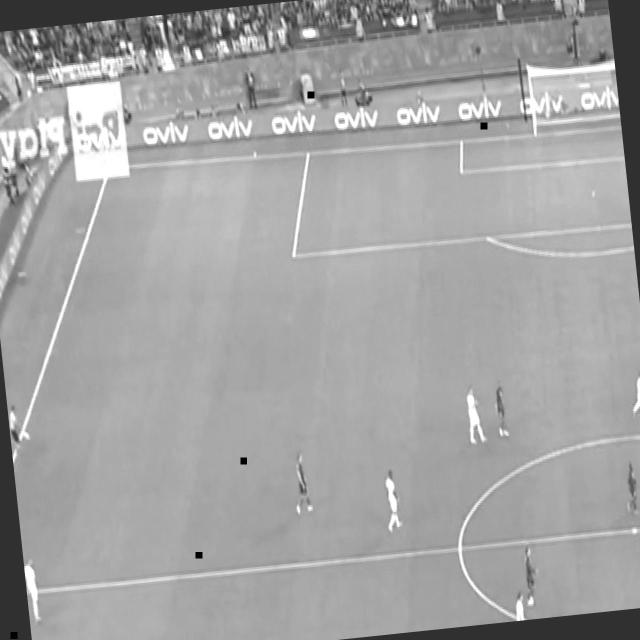player-white: (289, 450, 315, 516), (518, 546, 544, 610), (464, 384, 488, 448), (381, 468, 404, 534), (7, 397, 33, 455), (23, 552, 43, 622), (621, 459, 640, 519), (492, 381, 509, 439), (508, 589, 530, 621), (627, 368, 640, 421)
